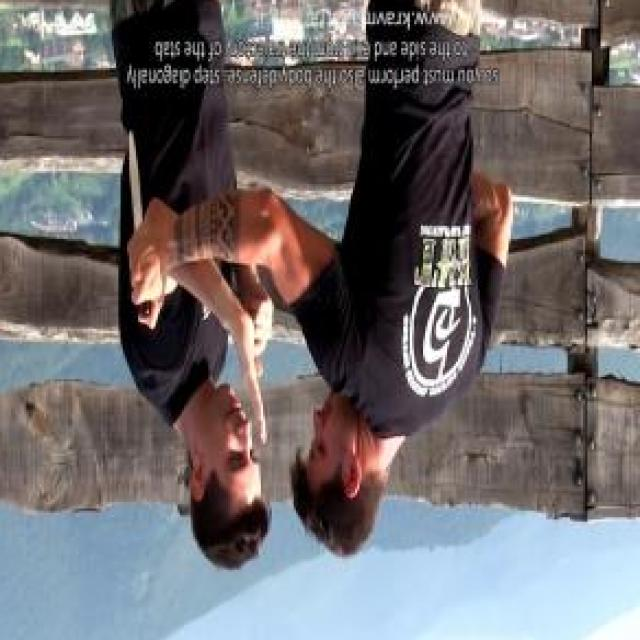knife: (124, 129, 166, 333)
